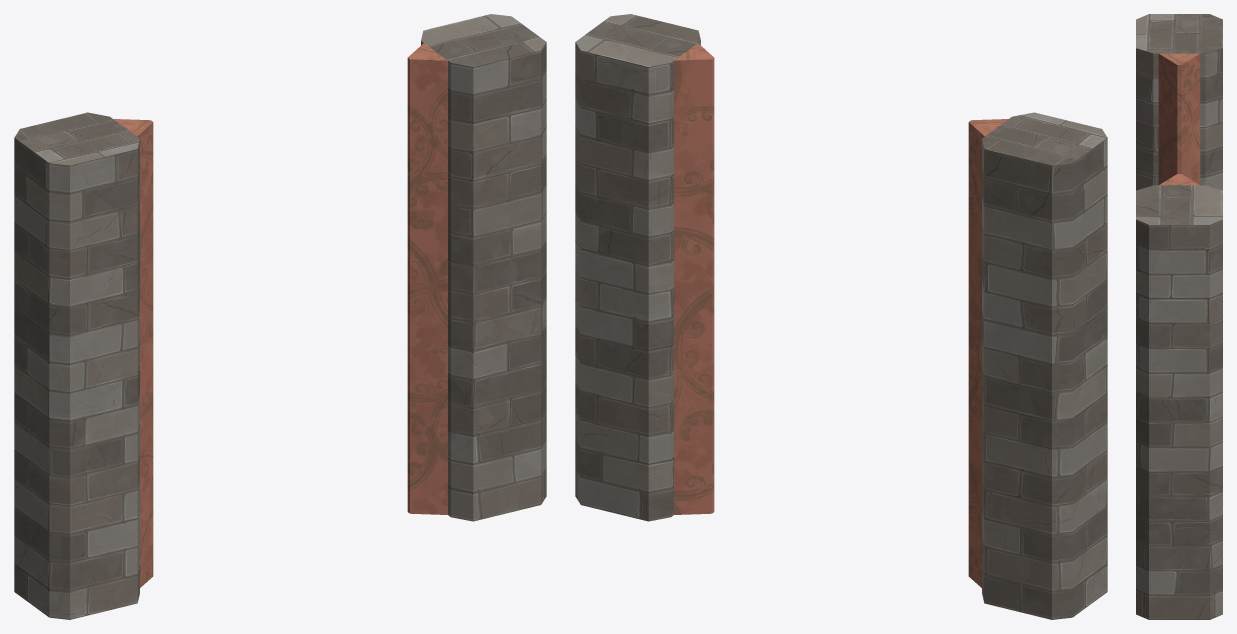
Rendered from trim_simple.fbx.
3 renders of one model, left to right at view 1: azimuth 30°, elevation 25°; view 2: azimuth 150°, elevation 25°; view 3: azimuth 270°, elevation 25°, orthographic. The views are drawn at different scales.
Parts seen in each view (by area): view 1: walls_pillar_square:walls_pillar_square:polySurface2, walls_pillar_square:polySurface3; view 2: walls_pillar_square:walls_pillar_square:polySurface2, walls_pillar_square:polySurface3; view 3: walls_pillar_square:walls_pillar_square:polySurface2, walls_pillar_square:polySurface3.
Boxes of the visible parts, bbox=[...] form: walls_pillar_square:walls_pillar_square:polySurface2: bbox=[14, 14, 546, 619]; walls_pillar_square:polySurface3: bbox=[113, 43, 447, 587]; walls_pillar_square:walls_pillar_square:polySurface2: bbox=[575, 14, 1107, 619]; walls_pillar_square:polySurface3: bbox=[674, 43, 1008, 587]; walls_pillar_square:walls_pillar_square:polySurface2: bbox=[1136, 14, 1222, 619]; walls_pillar_square:polySurface3: bbox=[1158, 53, 1200, 185].
Size of the model in its own units: 5.71 by 4.99 by 0.9954.
